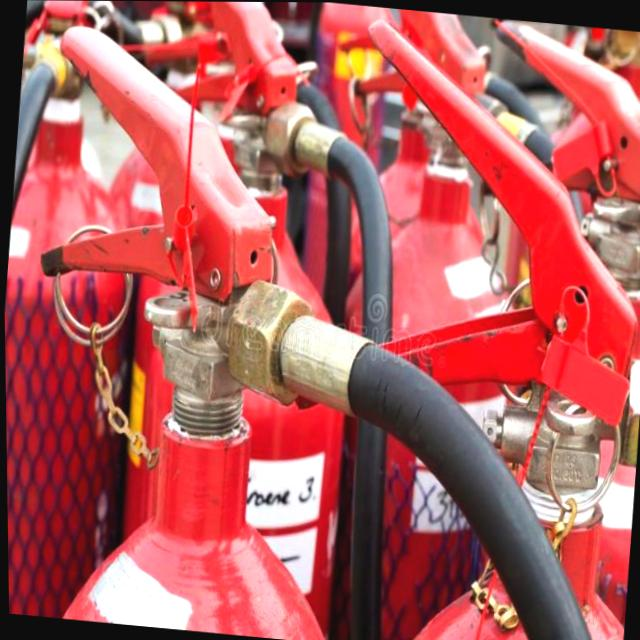FireExtinguisher: (0, 21, 640, 640), (299, 4, 640, 640), (432, 16, 640, 640), (0, 0, 165, 622)
